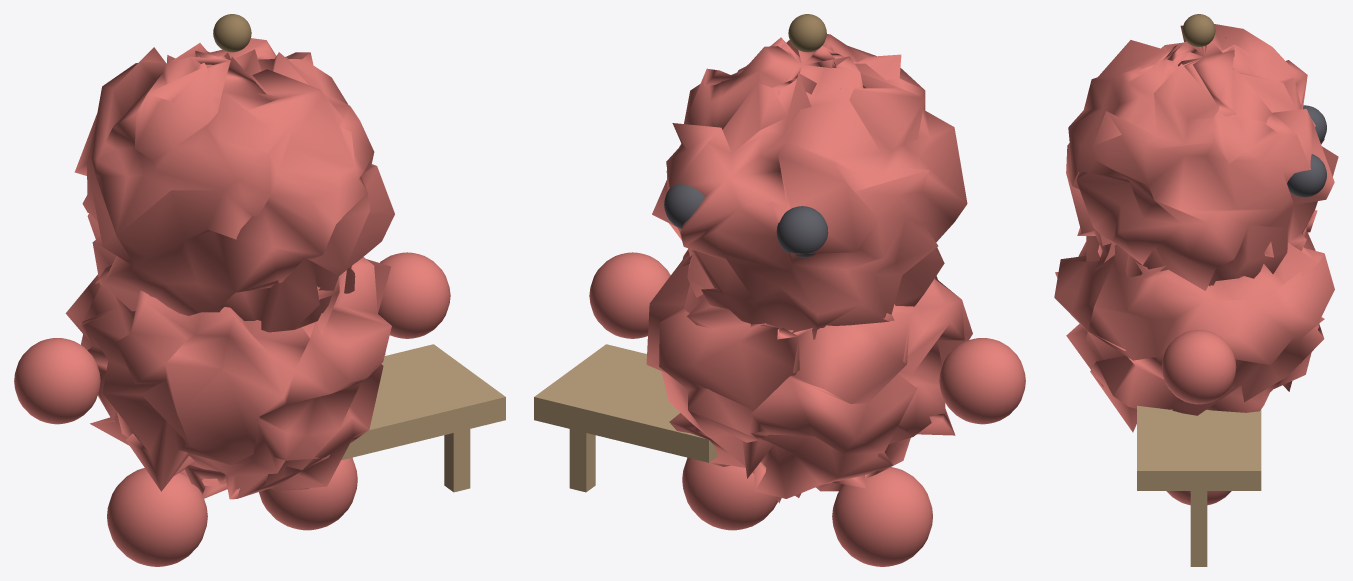
File: clay_apple_desk.glb
The picture shows the model from 3 angles, left to right: view 1: azimuth 30°, elevation 25°; view 2: azimuth 150°, elevation 25°; view 3: azimuth 270°, elevation 25°; orthographic projection. The views are drawn at different scales.
Visible parts, largest first — view 1: stem; view 2: stem; view 3: stem.
Part boxes in pixels (bbox=[...]): stem: bbox=[14, 14, 505, 566]; stem: bbox=[534, 14, 1025, 566]; stem: bbox=[1054, 14, 1338, 566].
Bounding box in the file's own units: 1.62 × 1.82 × 1.03.
